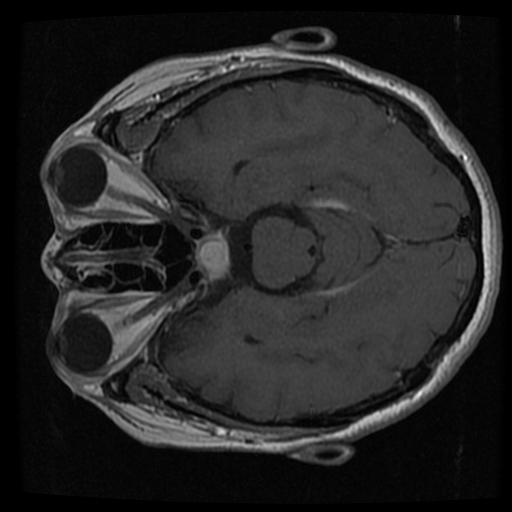pituitary tumour: (194, 233, 229, 276)
